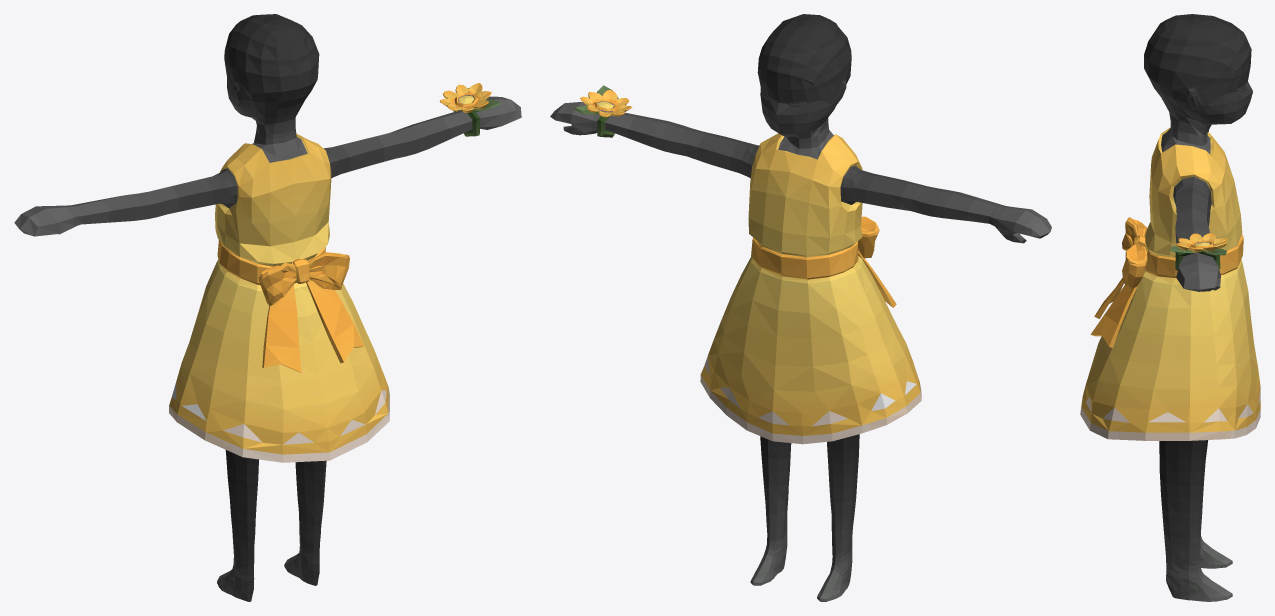
File: CharSkyKid_Body_SunflowerSkirt.glb
3 renders of one model, left to right at view 1: azimuth 30°, elevation 25°; view 2: azimuth 150°, elevation 25°; view 3: azimuth 270°, elevation 25°, orthographic.
Visible parts, largest first — view 1: CharSkyKid_Body_SunflowerSkirt; view 2: CharSkyKid_Body_SunflowerSkirt; view 3: CharSkyKid_Body_SunflowerSkirt.
Boxes of the visible parts, left/top/right/bottom form: CharSkyKid_Body_SunflowerSkirt: left=14, top=14, right=521, bottom=601; CharSkyKid_Body_SunflowerSkirt: left=550, top=14, right=1051, bottom=601; CharSkyKid_Body_SunflowerSkirt: left=1080, top=14, right=1260, bottom=601.
Size of the model in its own units: 13.83 by 14.93 by 4.34.
1 material, 1 textured.
